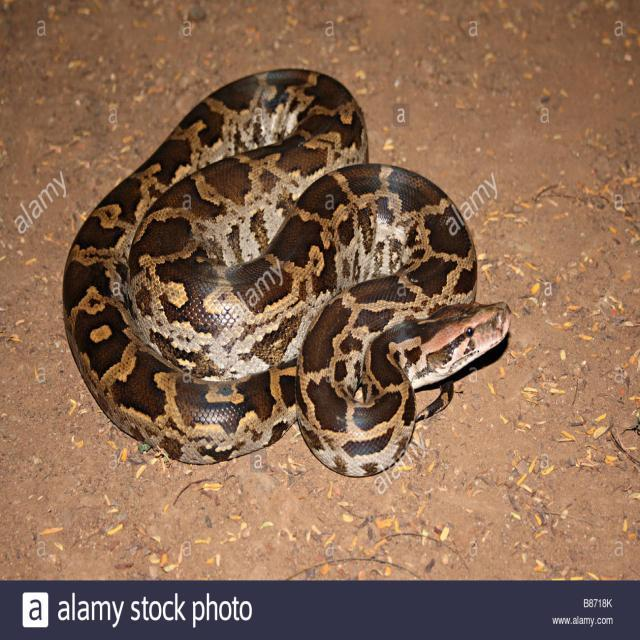Snake: (61, 66, 512, 478)
